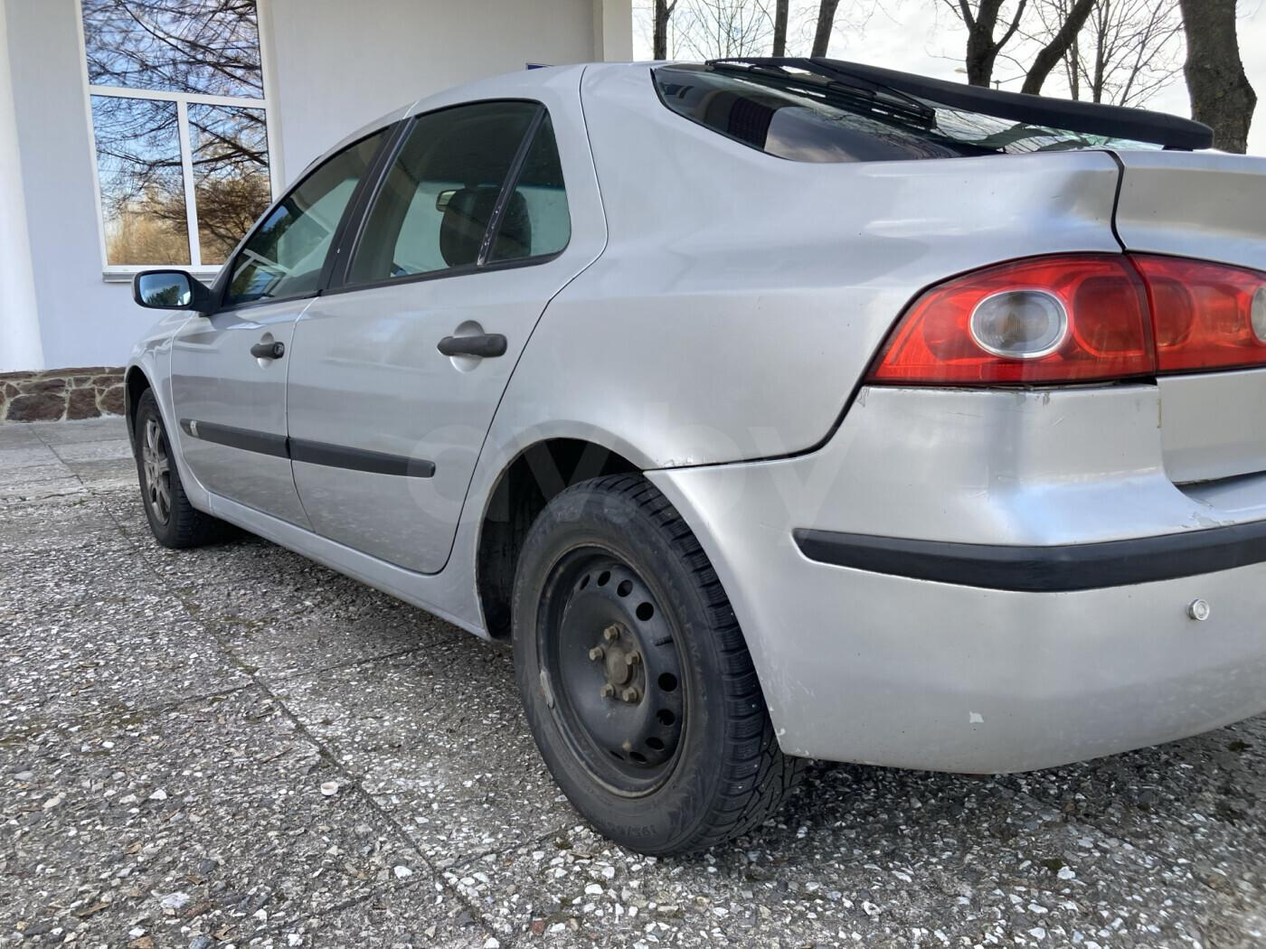Laguna_2005-2007: (118, 59, 1266, 844)
